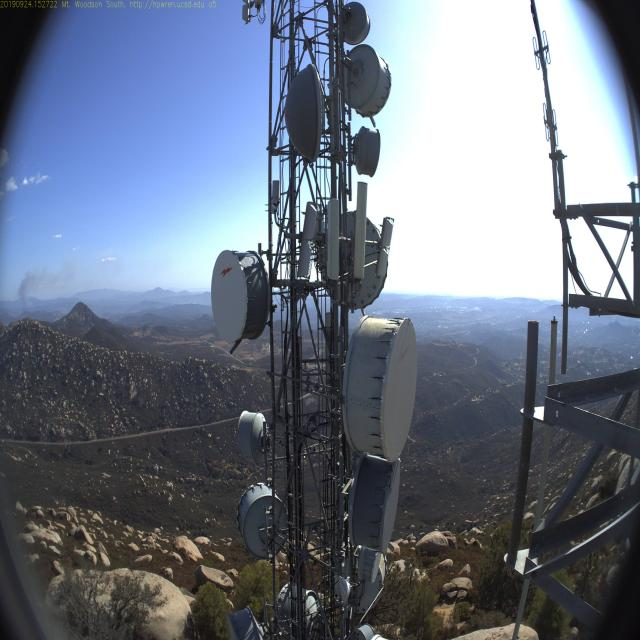smoke: (15, 270, 56, 308)
